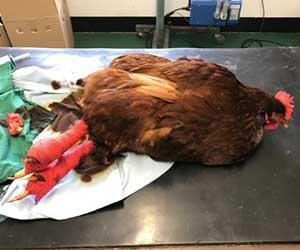AbNormal: (4, 36, 300, 218)
